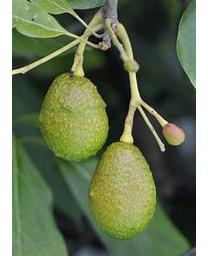avocado: (87, 141, 158, 240), (38, 72, 110, 165)
